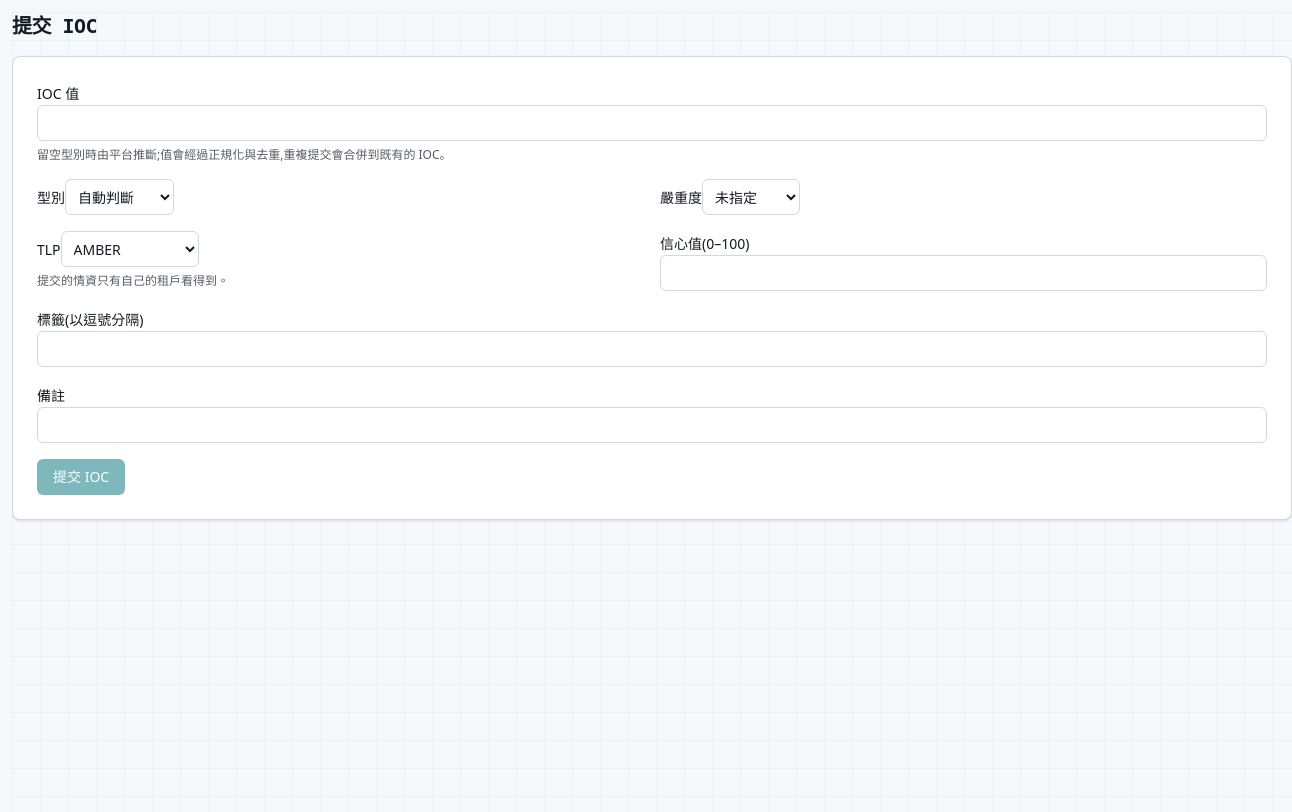
IocSubmitPage › 每日配額用罄回 429 時說明何時可再試
This screenshot has width=1292, height=812.
In the field labelled "IOC 值": x=652, y=123 [37,105,1267,141], type "203.0.113.7"
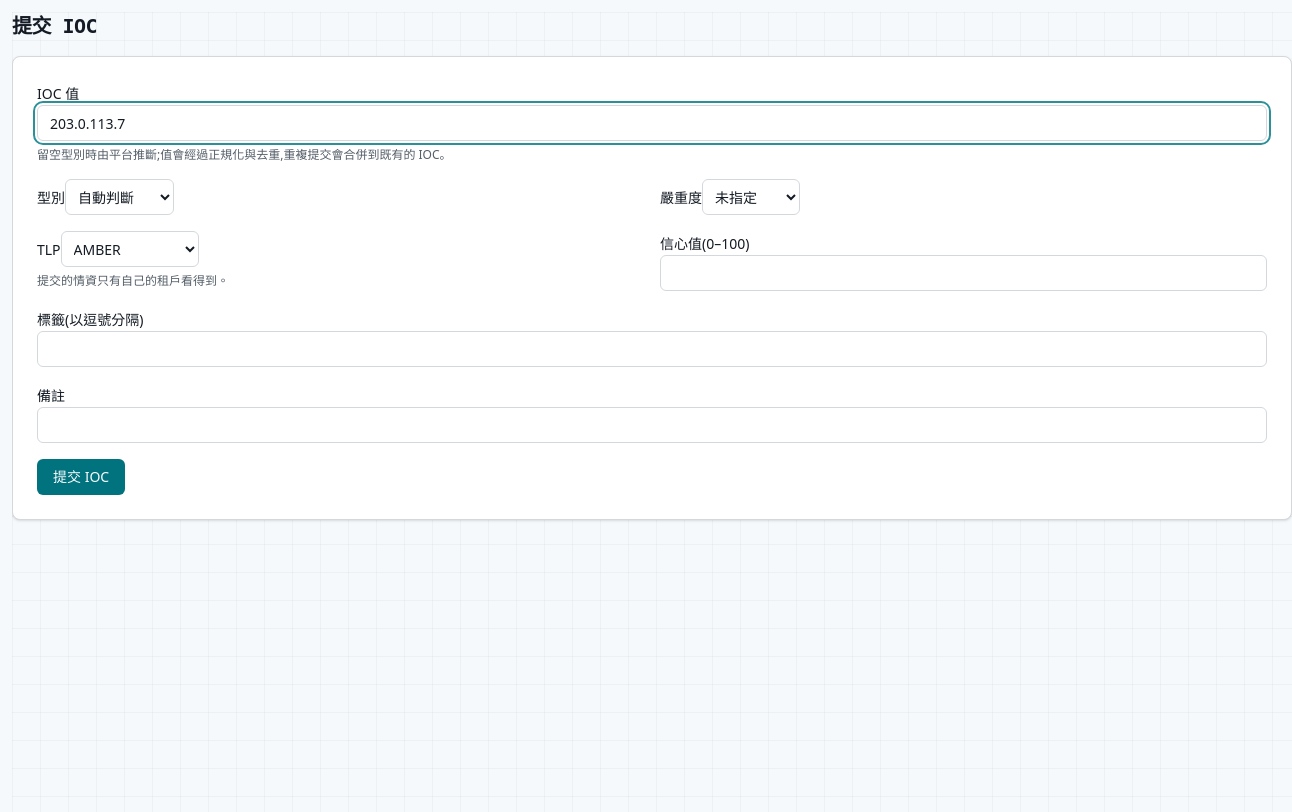
Click the button "提交 IOC": x=81, y=477 [37,459,125,495]
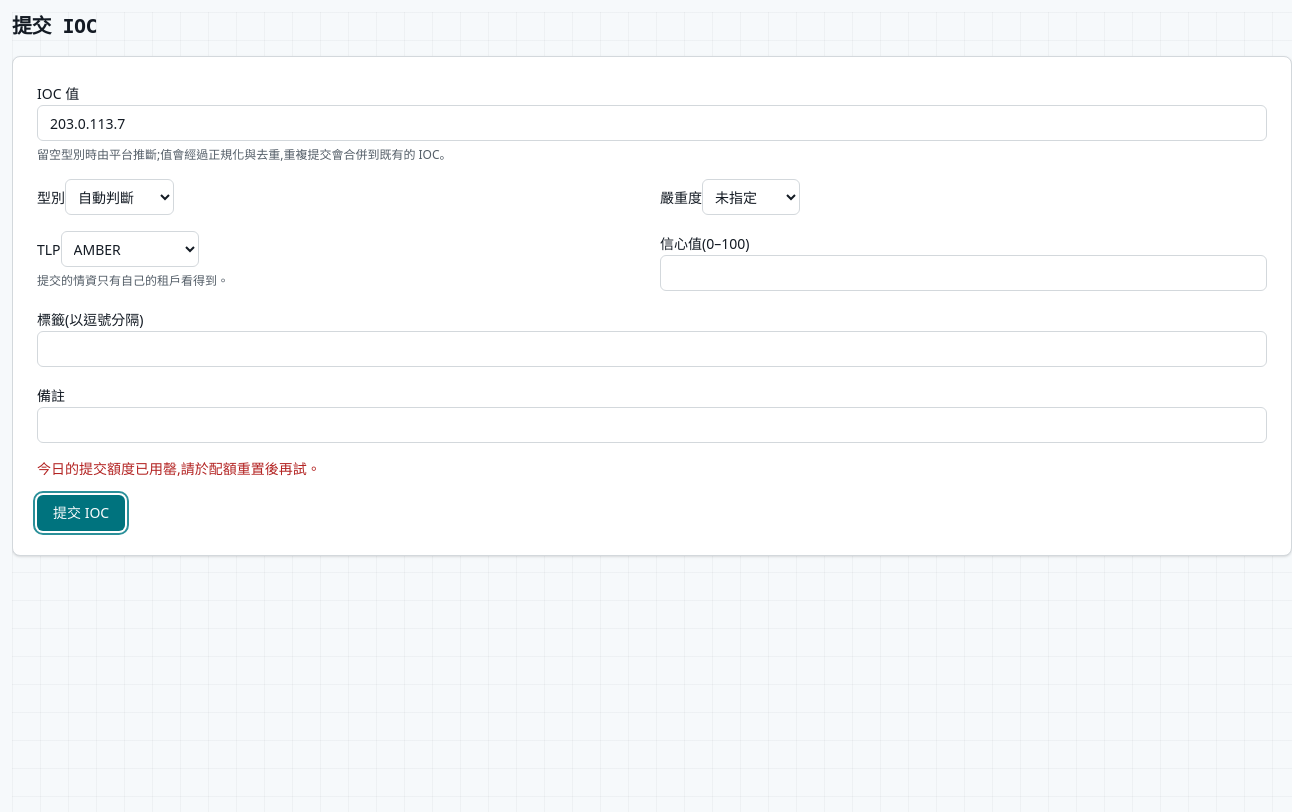
Now the message shows "額度已用罄", box [37,459,321,478]
